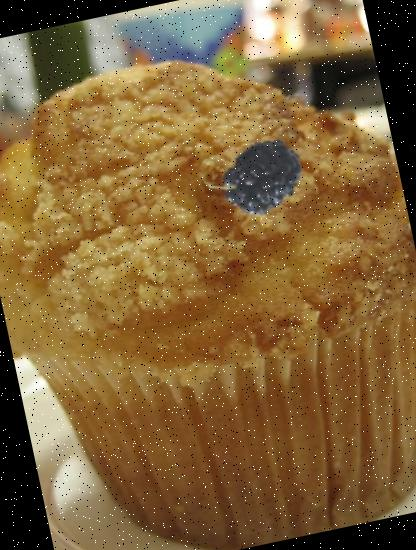Mulberry: (210, 126, 326, 242)
